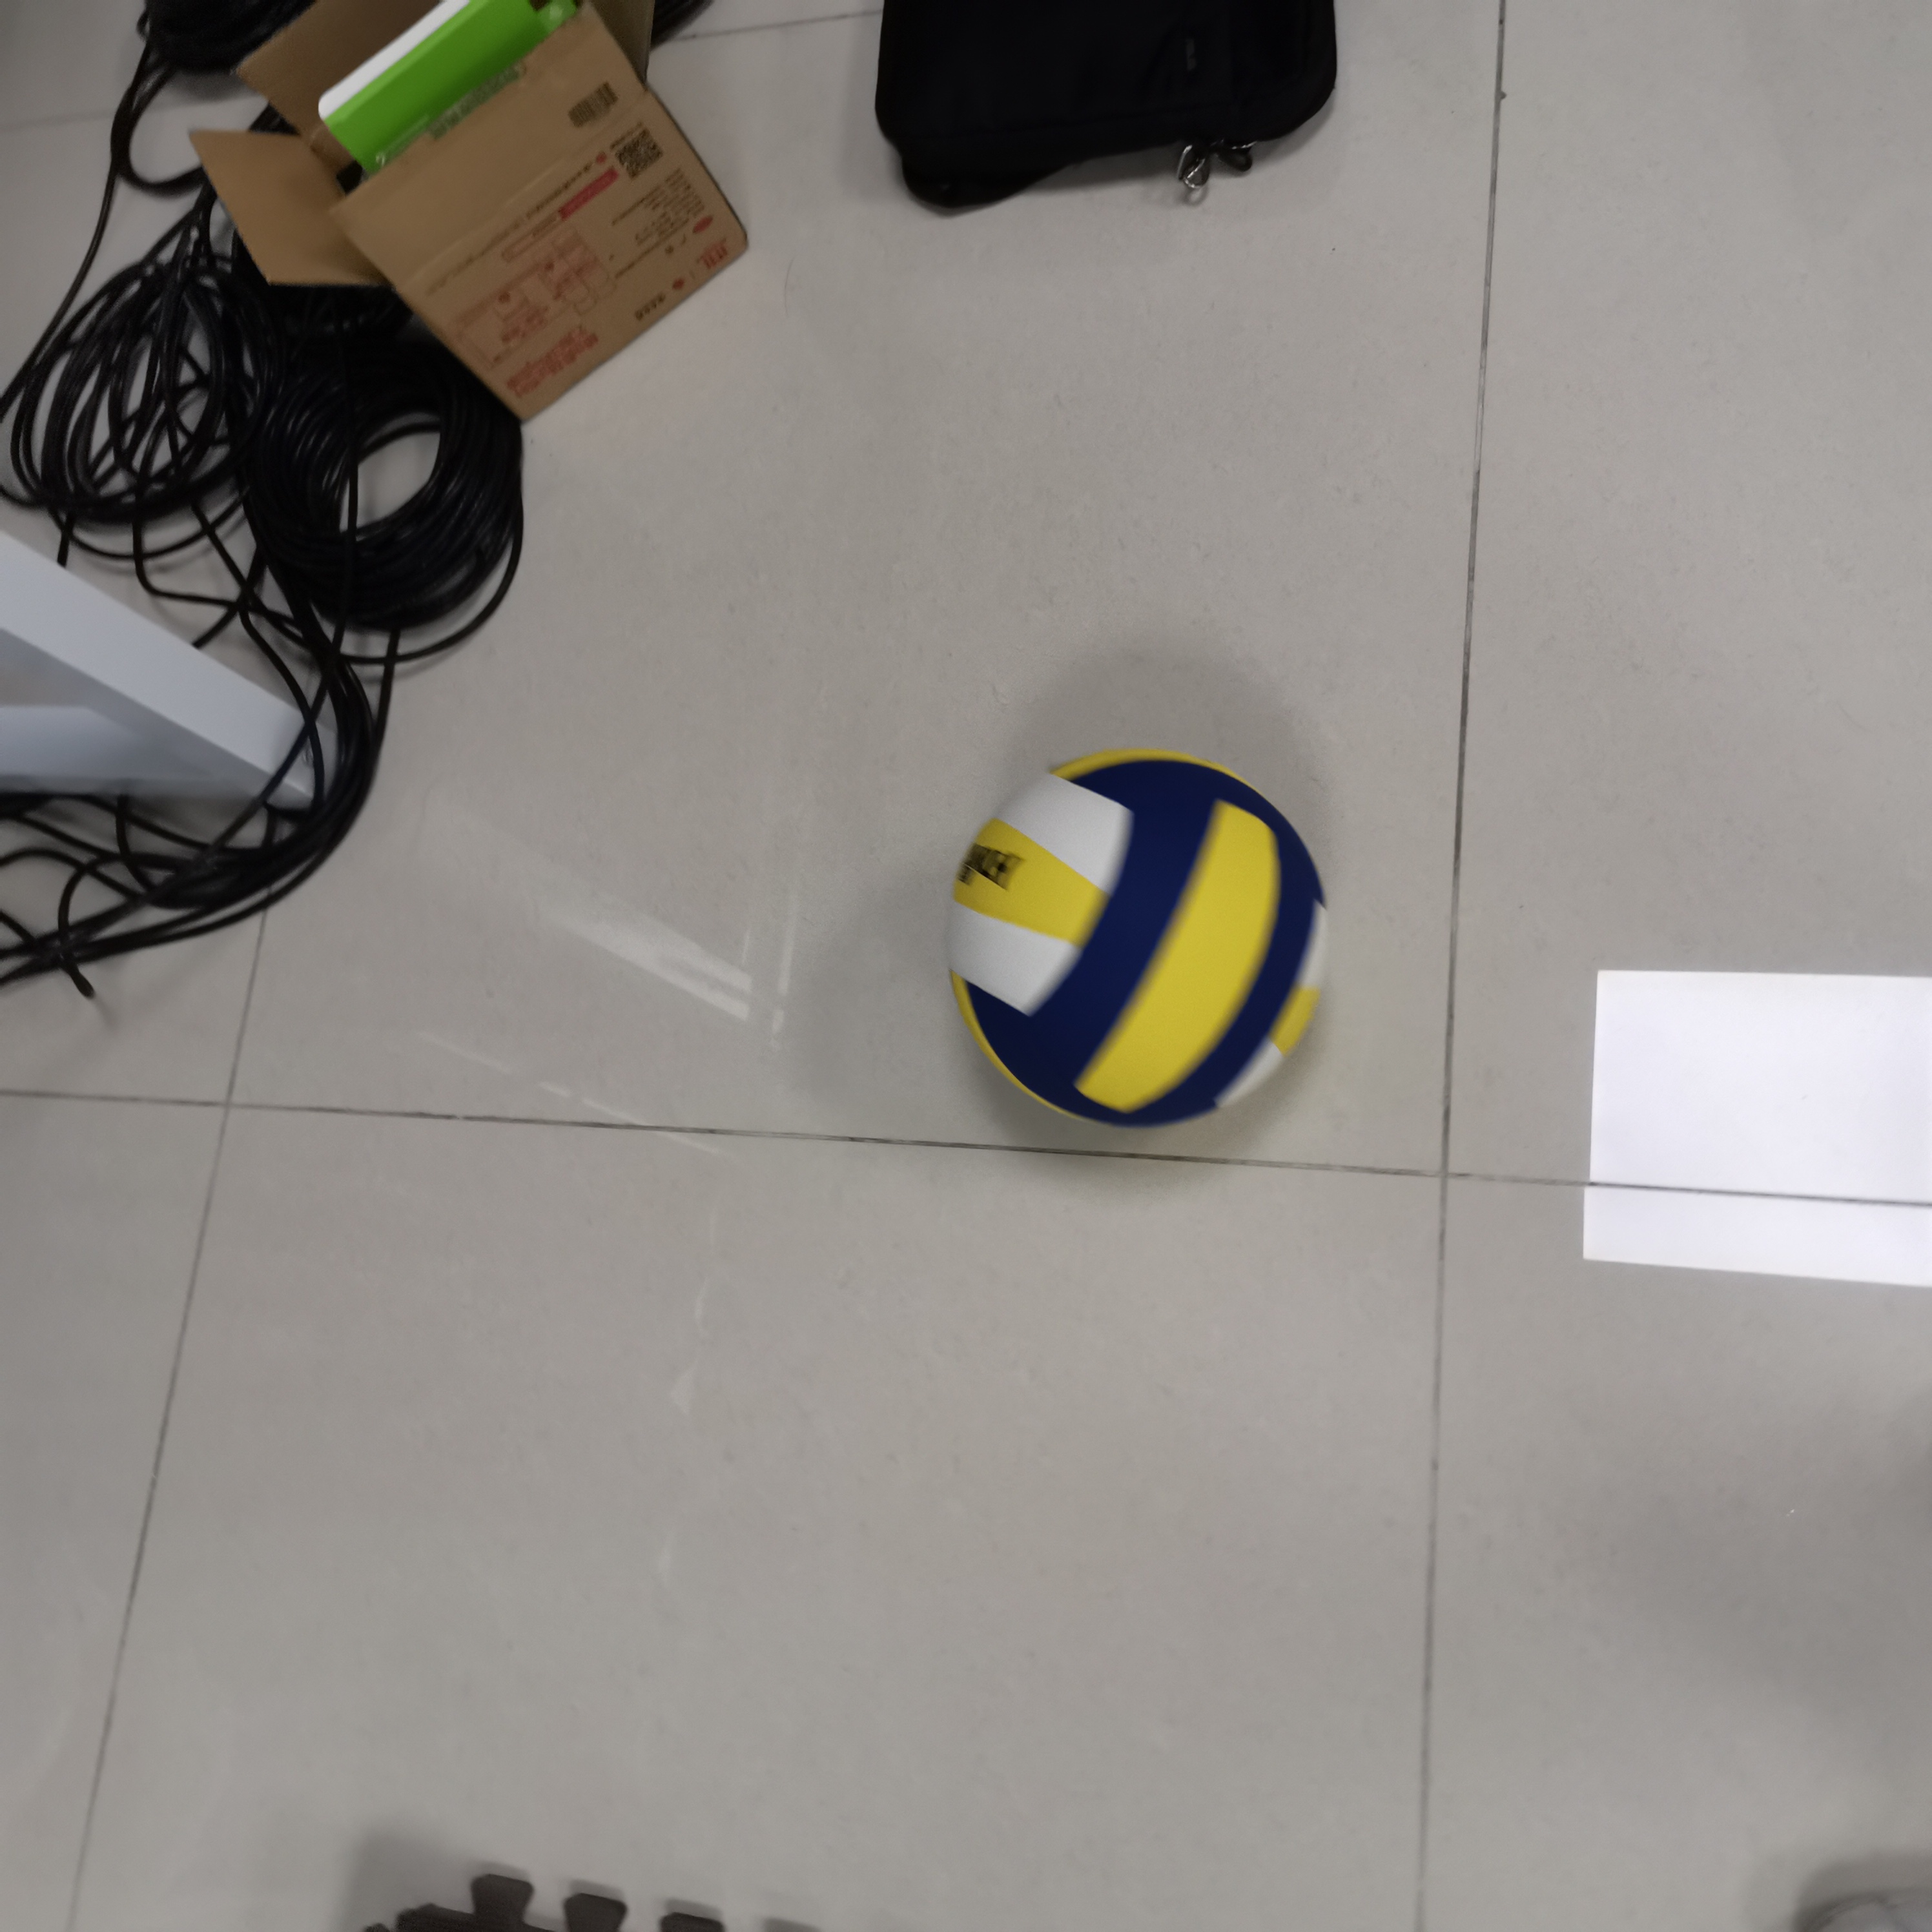volleyball: (954, 755, 1338, 1143)
